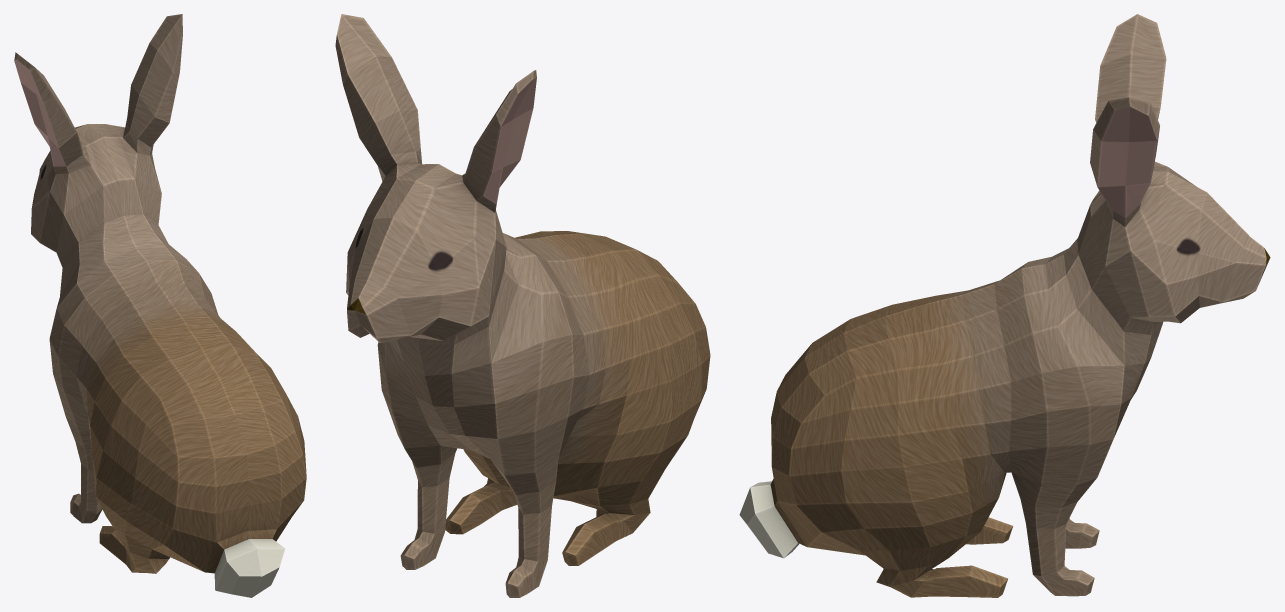
Rendered from rabit.glb.
3 views of the same model, side by side, from view 1: azimuth 30°, elevation 25°; view 2: azimuth 150°, elevation 25°; view 3: azimuth 270°, elevation 25° (orthographic). The views are drawn at different scales.
Visible parts, largest first — view 1: Cottontails_mesh; view 2: Cottontails_mesh; view 3: Cottontails_mesh.
Boxes of the visible parts, x1,y1,x2,y2 form: Cottontails_mesh: (14,14,306,597); Cottontails_mesh: (335,14,710,597); Cottontails_mesh: (739,14,1270,597).
Size of the model in its own units: 19.55 by 46.27 by 43.22.
1 material, 1 textured.
